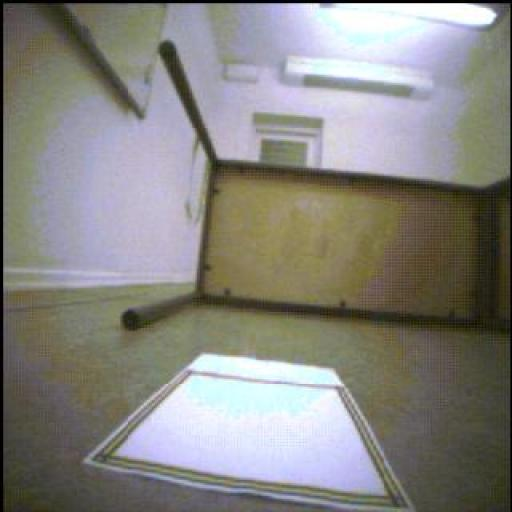Pad: (108, 341, 422, 512)
